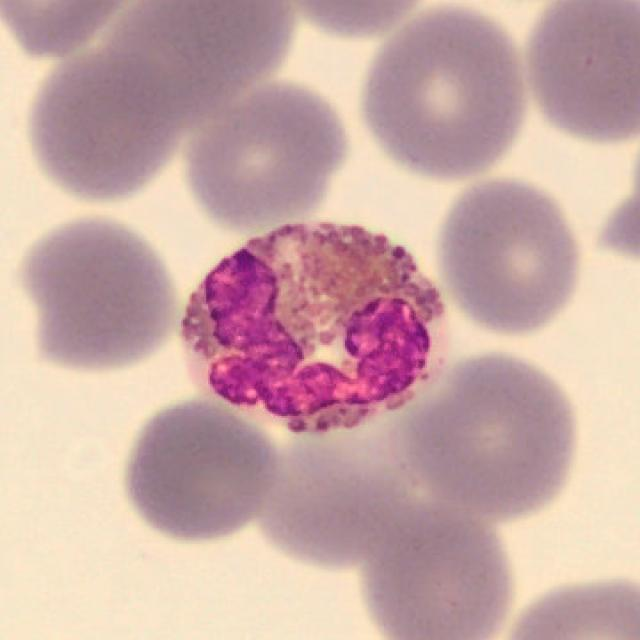Eosinofilo: (180, 224, 450, 434)
